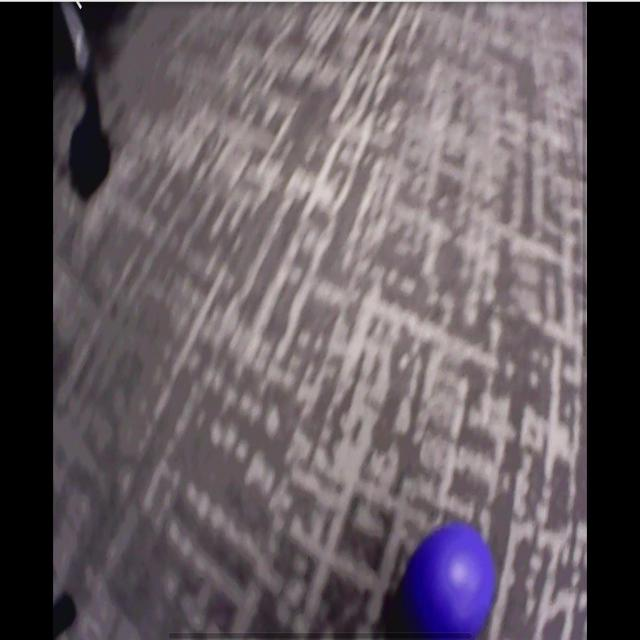ball: (408, 525, 492, 640)
